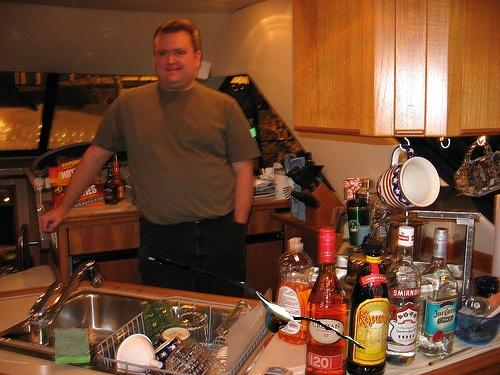tampered: (148, 257, 365, 349)
